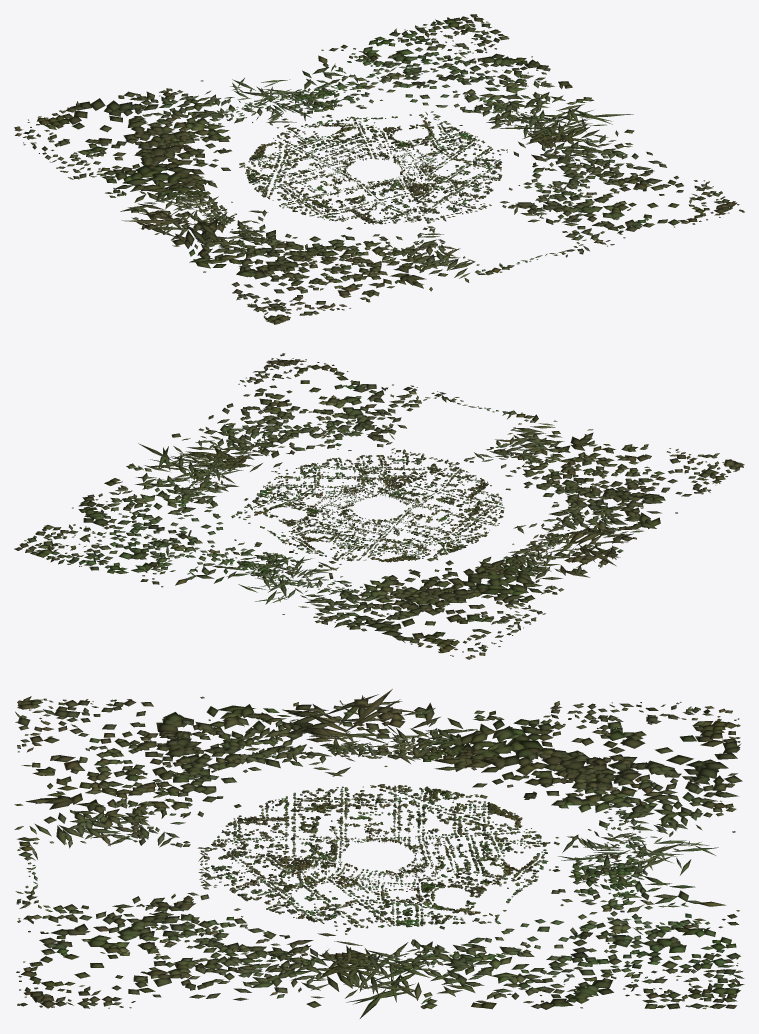
The model's file is hands_backdrop_part2.glb.
The picture shows the model from 3 angles, top to bottom: view 1: azimuth 30°, elevation 25°; view 2: azimuth 150°, elevation 25°; view 3: azimuth 270°, elevation 25°; orthographic projection. The views are drawn at different scales.
Visible parts, largest first — view 1: bg_trees_joined_s08, bg_trees_joined_s15, bg_trees_joined_s14, bg_trees_joined_s12, bg_trees_joined_s11, bg_trees_joined_s09, bg_trees_joined_s13, bg_trees_joined_s10, bg_trees_joined_s02, bg_trees_joined_s07, bg_trees_joined_s06, bg_trees_joined_s01 (+4 smaller); view 2: bg_trees_joined_s08, bg_trees_joined_s15, bg_trees_joined_s14, bg_trees_joined_s12, bg_trees_joined_s11, bg_trees_joined_s09, bg_trees_joined_s13, bg_trees_joined_s10, bg_trees_joined_s02, bg_trees_joined_s06, bg_trees_joined_s07, bg_trees_joined_s04 (+4 smaller); view 3: bg_trees_joined_s08, bg_trees_joined_s15, bg_trees_joined_s14, bg_trees_joined_s12, bg_trees_joined_s11, bg_trees_joined_s09, bg_trees_joined_s13, bg_trees_joined_s10, bg_trees_joined_s02, bg_trees_joined_s07, bg_trees_joined_s06, bg_trees_joined_s01 (+4 smaller).
Boxes of the visible parts, x1,y1,x2,y2 form: bg_trees_joined_s08: (124, 206, 332, 324); bg_trees_joined_s15: (14, 129, 263, 224); bg_trees_joined_s14: (14, 78, 296, 153); bg_trees_joined_s12: (409, 14, 605, 141); bg_trees_joined_s11: (489, 114, 742, 210); bg_trees_joined_s09: (274, 218, 509, 324); bg_trees_joined_s13: (261, 14, 473, 120); bg_trees_joined_s10: (440, 186, 744, 267); bg_trees_joined_s02: (389, 172, 493, 213); bg_trees_joined_s07: (246, 155, 351, 196); bg_trees_joined_s06: (251, 124, 360, 168); bg_trees_joined_s01: (341, 179, 432, 224); bg_trees_joined_s08: (498, 464, 744, 565); bg_trees_joined_s15: (414, 535, 615, 657); bg_trees_joined_s14: (255, 555, 472, 659); bg_trees_joined_s12: (14, 451, 269, 550); bg_trees_joined_s11: (138, 354, 339, 479); bg_trees_joined_s09: (444, 410, 743, 490); bg_trees_joined_s13: (18, 526, 312, 592); bg_trees_joined_s10: (281, 353, 508, 461); bg_trees_joined_s02: (348, 455, 435, 497); bg_trees_joined_s06: (317, 518, 411, 562); bg_trees_joined_s07: (386, 514, 486, 560); bg_trees_joined_s04: (253, 481, 354, 519); bg_trees_joined_s08: (20, 689, 392, 792); bg_trees_joined_s15: (368, 689, 725, 798); bg_trees_joined_s14: (512, 710, 742, 860); bg_trees_joined_s12: (369, 910, 736, 1009); bg_trees_joined_s11: (23, 908, 386, 1018); bg_trees_joined_s09: (14, 700, 241, 859); bg_trees_joined_s13: (506, 853, 744, 1005); bg_trees_joined_s10: (15, 854, 246, 1006); bg_trees_joined_s02: (212, 854, 352, 902); bg_trees_joined_s07: (378, 784, 496, 845); bg_trees_joined_s06: (404, 806, 547, 857); bg_trees_joined_s01: (210, 805, 349, 856).
Bounding box in the file's own units: 3176 × 74.83 × 3034.
1 material, 1 textured.
